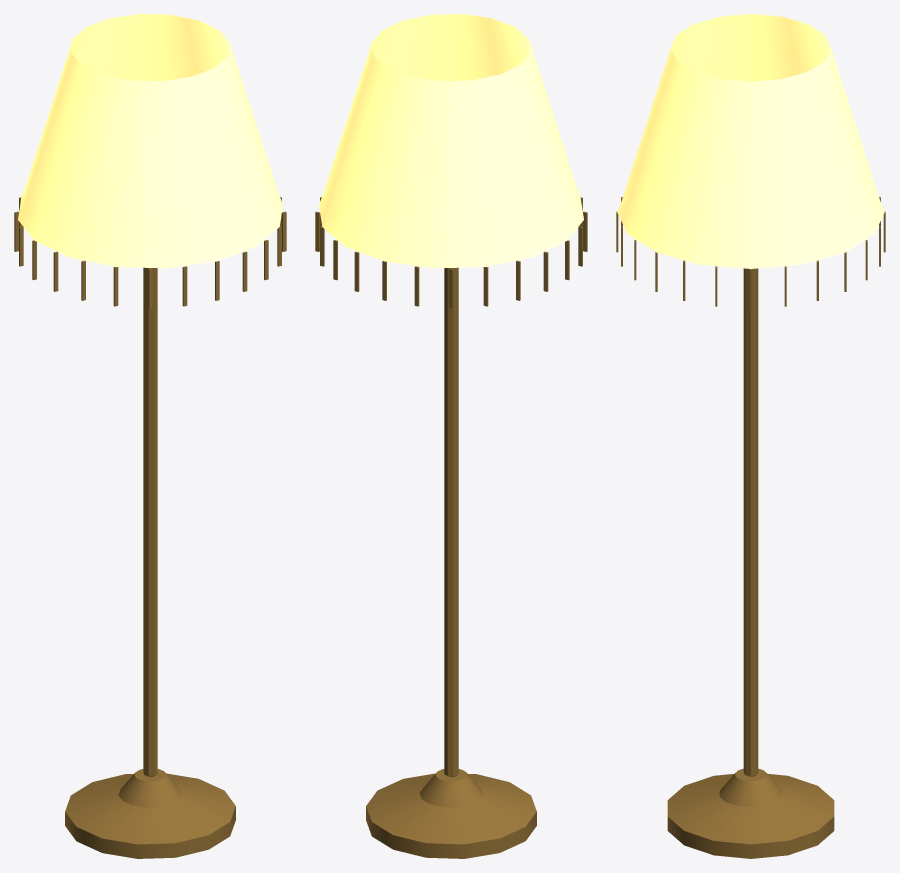
The model's file is mae_floor_lamp.glb.
3 renders of one model, left to right at view 1: azimuth 30°, elevation 25°; view 2: azimuth 150°, elevation 25°; view 3: azimuth 270°, elevation 25°, orthographic.
Parts seen in each view (by area): view 1: mae_floor_lamp; view 2: mae_floor_lamp; view 3: mae_floor_lamp.
Part boxes in pixels (left/top/right/bottom): mae_floor_lamp: left=14, top=14, right=286, bottom=858; mae_floor_lamp: left=315, top=14, right=587, bottom=858; mae_floor_lamp: left=616, top=14, right=885, bottom=858.
Bounding box in the file's own units: 0.508 × 1.6 × 0.504.
